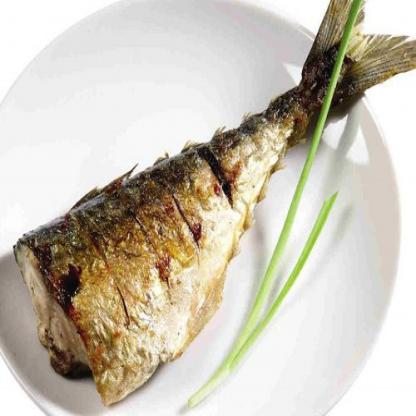Peixe: (5, 5, 402, 402)
